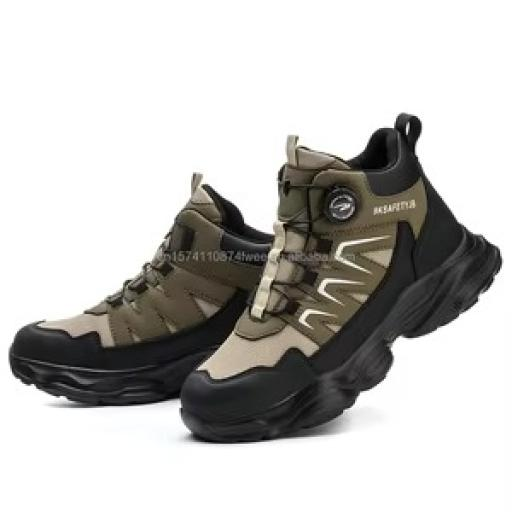safety_boots: (176, 124, 506, 443)
